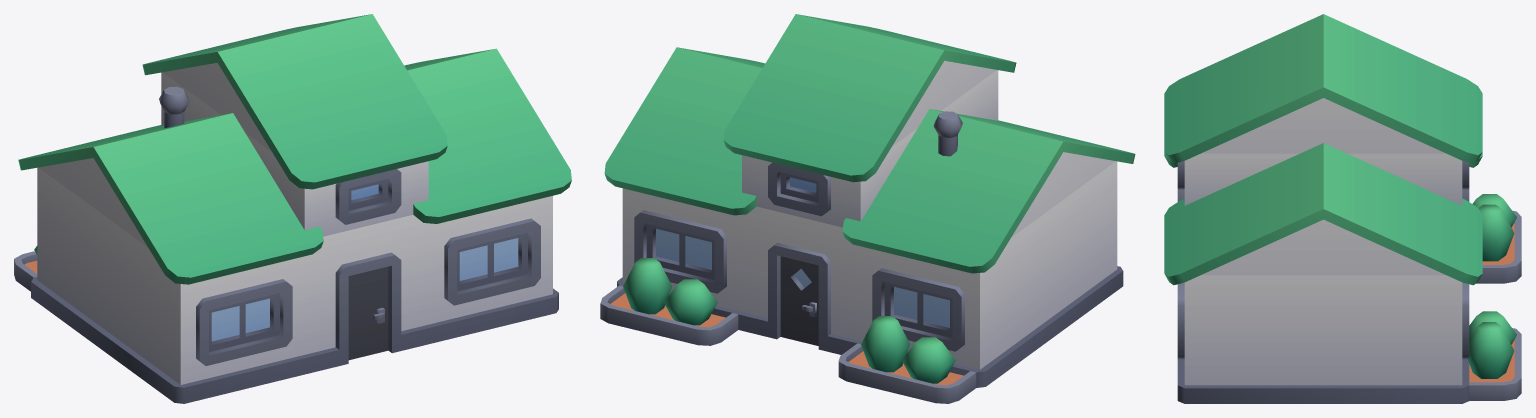
Rendered from u-building-type-a.glb.
3 renders of one model, left to right at view 1: azimuth 30°, elevation 25°; view 2: azimuth 150°, elevation 25°; view 3: azimuth 270°, elevation 25°, orthographic. The views are drawn at different scales.
Visible parts, largest first — view 1: building-type-a; view 2: building-type-a; view 3: building-type-a.
Part boxes in pixels (x1=…): building-type-a: x1=14, y1=14, x2=571, y2=403; building-type-a: x1=600, y1=14, x2=1135, y2=403; building-type-a: x1=1164, y1=14, x2=1521, y2=403.
Bounding box in the file's own units: 1.3 × 0.8336 × 1.03.
Materials: 1 (1 with a texture image).
